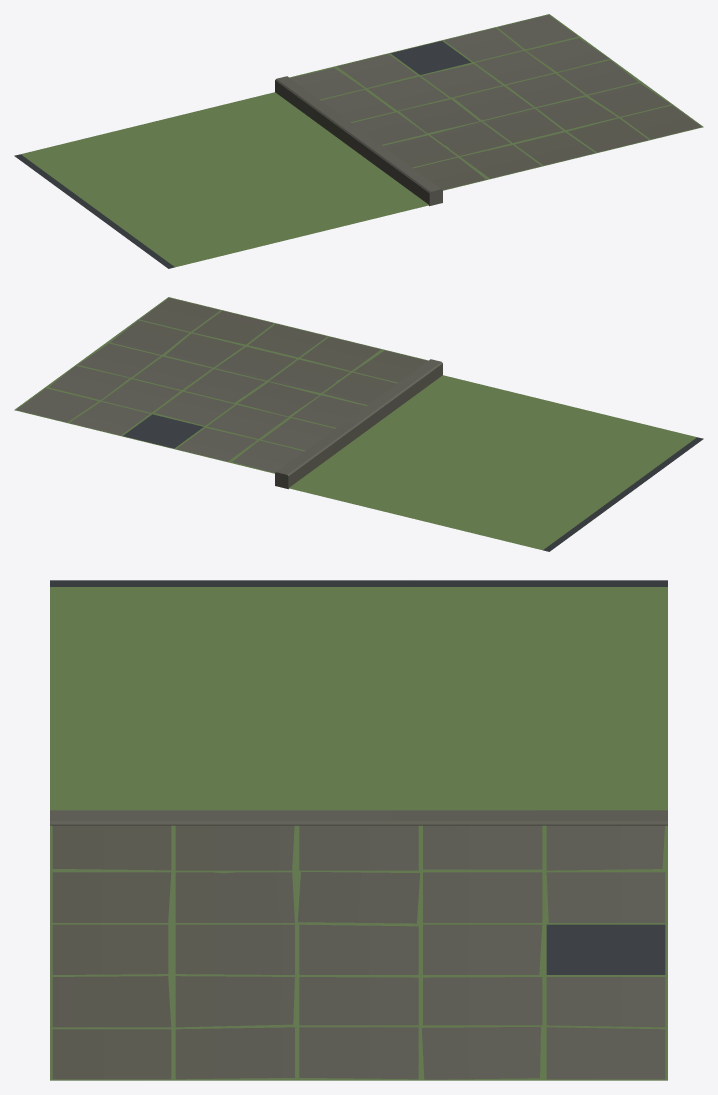
File: Road_13.fbx
3 views of the same model, one above another, from view 1: azimuth 30°, elevation 25°; view 2: azimuth 150°, elevation 25°; view 3: azimuth 270°, elevation 25° (orthographic). The views are drawn at different scales.
Visible parts, largest first — view 1: Road_13; view 2: Road_13; view 3: Road_13.
Boxes of the visible parts, x1,y1,x2,y2 form: Road_13: [14, 14, 703, 268]; Road_13: [14, 297, 703, 551]; Road_13: [50, 580, 667, 1080].
Size of the model in its own units: 6 by 0.15 by 3.
